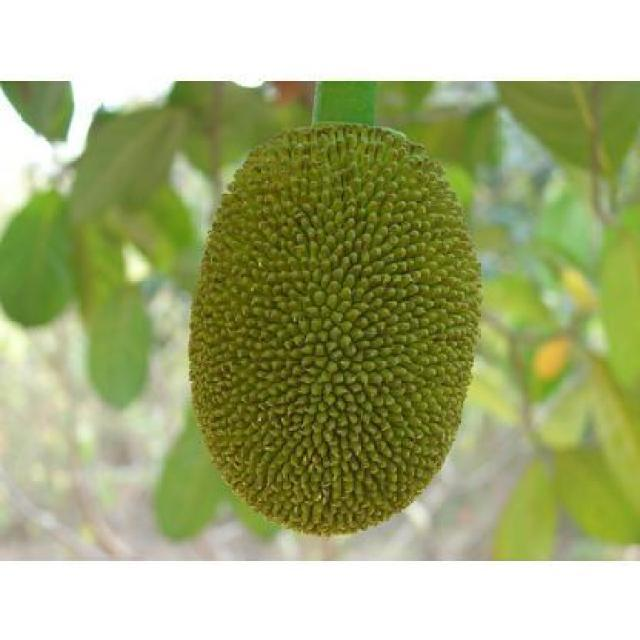Jackfruit: (183, 120, 479, 532)
